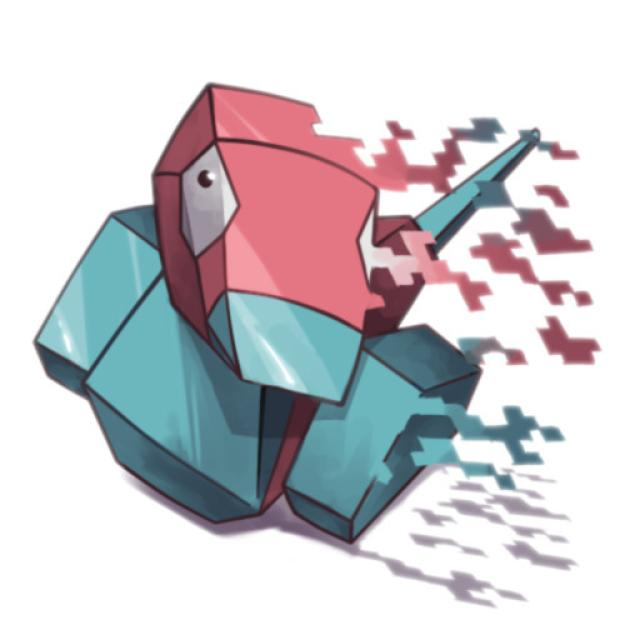Porygon: (52, 104, 432, 536)
